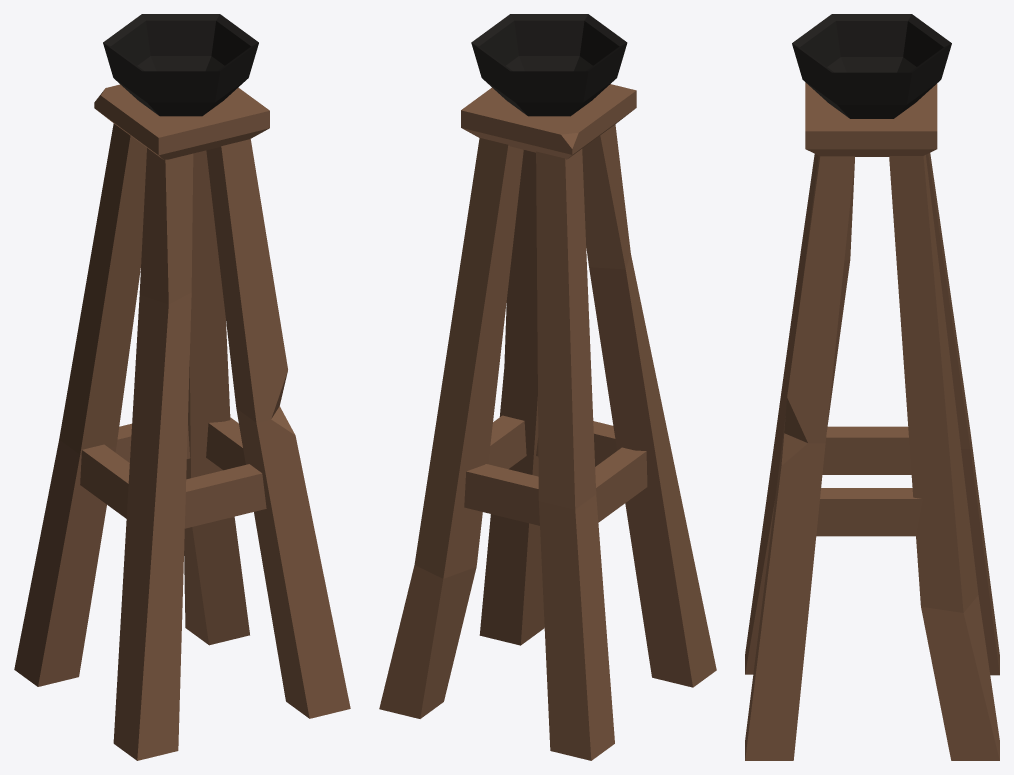
Rendered from Torch_2.fbx.
3 renders of one model, left to right at view 1: azimuth 30°, elevation 25°; view 2: azimuth 150°, elevation 25°; view 3: azimuth 270°, elevation 25°, orthographic. The views are drawn at different scales.
Parts seen in each view (by area): view 1: Torch_2; view 2: Torch_2; view 3: Torch_2.
Part boxes in pixels (box(x1,y1,x2,y2)): Torch_2: box(14, 14, 350, 760); Torch_2: box(379, 14, 716, 760); Torch_2: box(745, 14, 999, 760).
Bounding box in the file's own units: 20.58 × 59.65 × 20.75.
